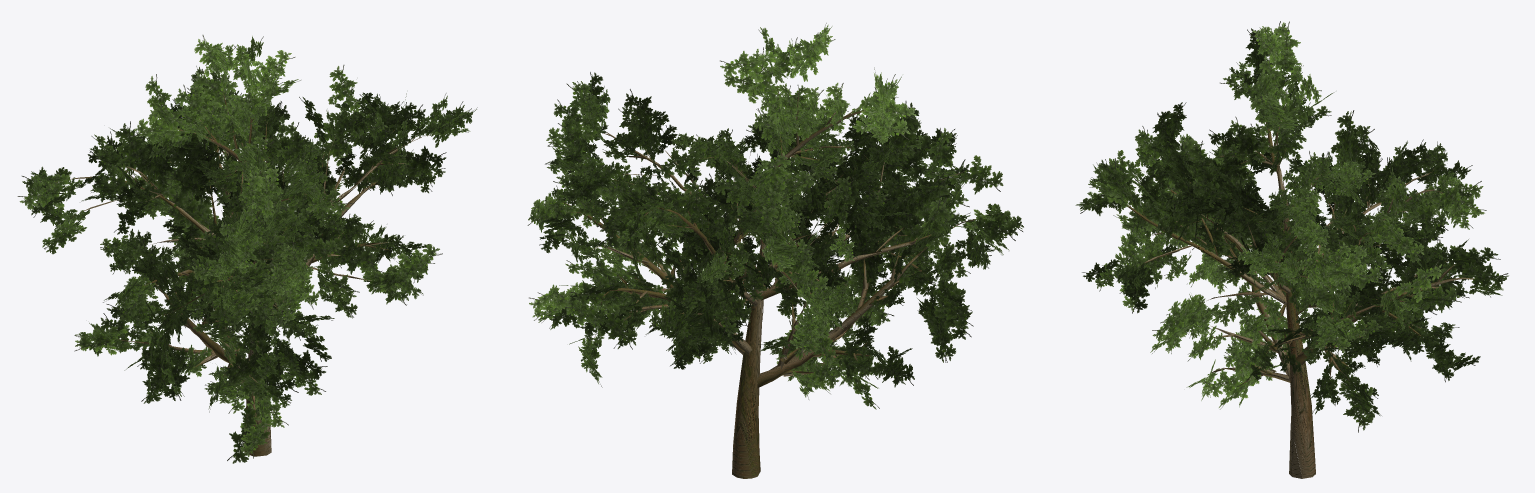
File: oak_lod1.glb
The picture shows the model from 3 angles, left to right: view 1: azimuth 30°, elevation 25°; view 2: azimuth 150°, elevation 25°; view 3: azimuth 270°, elevation 25°; orthographic projection. The views are drawn at different scales.
Parts seen in each view (by area): view 1: leaves, bark; view 2: leaves, bark; view 3: leaves, bark.
Boxes of the visible parts, x1,y1,x2,y2 form: leaves: (17, 35, 477, 463); bark: (49, 77, 432, 456); leaves: (527, 23, 1023, 409); bark: (562, 74, 976, 478); leaves: (1075, 21, 1508, 432); bark: (1125, 75, 1473, 478).
Size of the model in its own units: 18.29 by 18.49 by 17.8.
2 materials, 2 textured.
